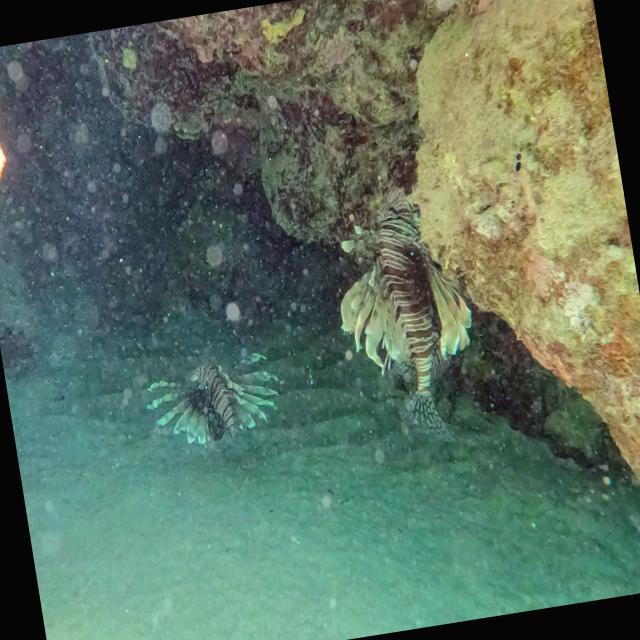Aslan Baligi: (320, 178, 493, 454), (136, 316, 288, 477)
